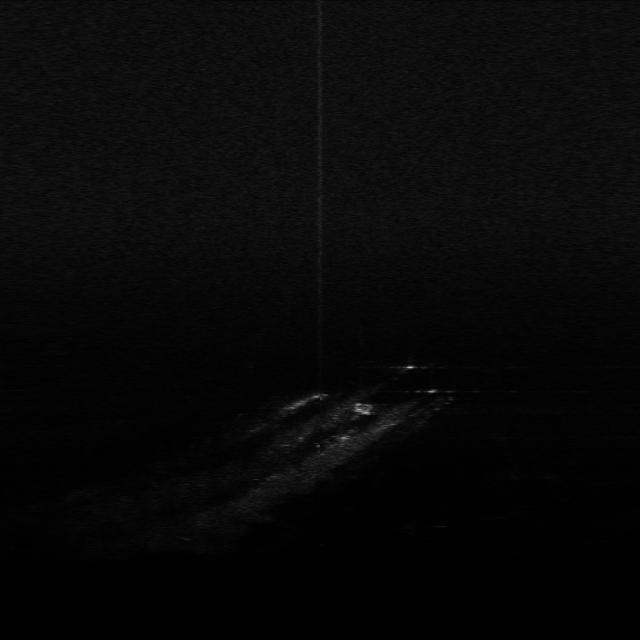rov: (351, 398, 377, 418)
